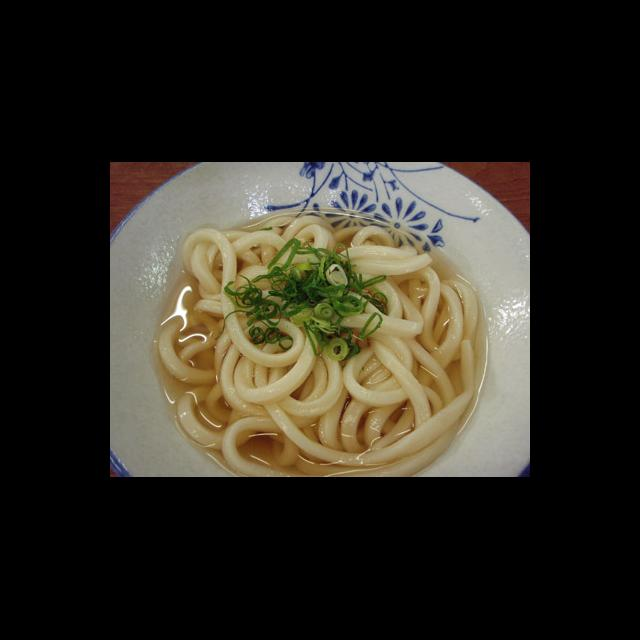noodles: (158, 210, 492, 478)
